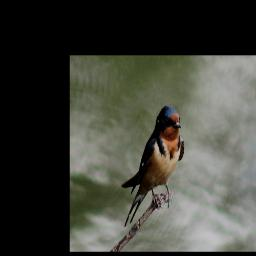Swallow: (124, 104, 186, 228)
